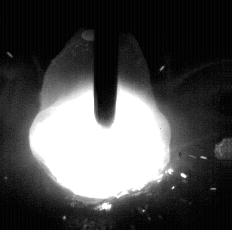arame: (95, 0, 118, 127)
poca: (28, 0, 171, 230)
